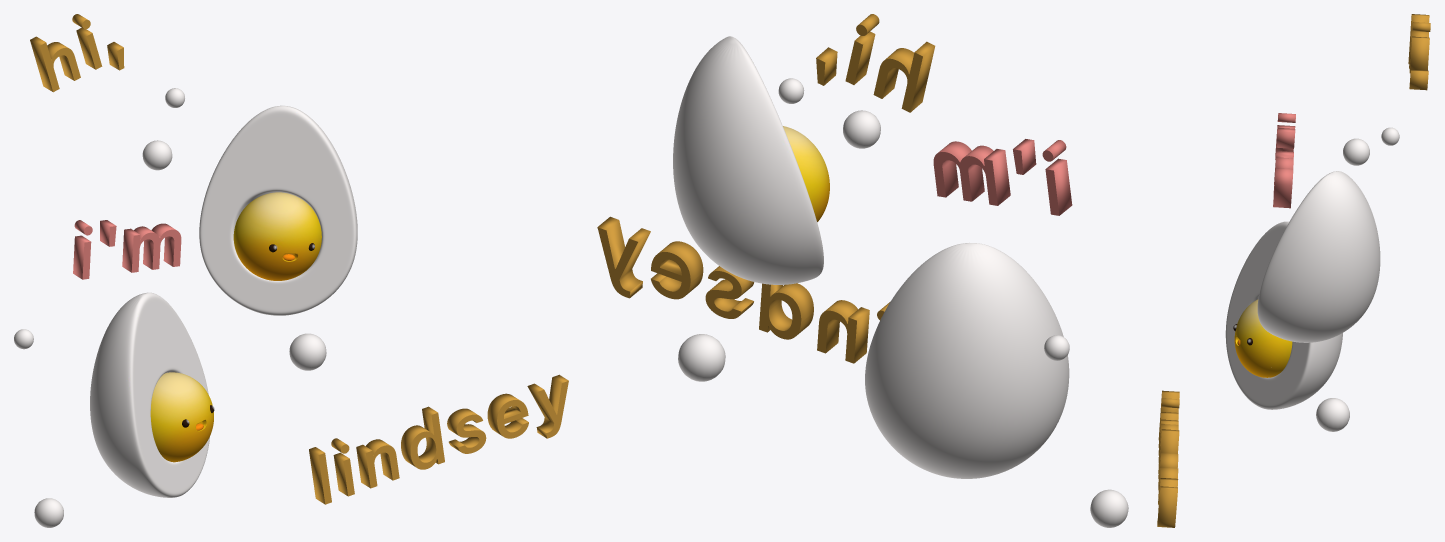
Rendered from home.glb.
The picture shows the model from 3 angles, left to right: view 1: azimuth 30°, elevation 25°; view 2: azimuth 150°, elevation 25°; view 3: azimuth 270°, elevation 25°; orthographic projection. The views are drawn at different scales.
Parts seen in each view (by area): view 1: g, Text.008, Text.003, Text.015, Text, Text.001, Text.004, Text.002, Text.007, Text.010, Text.005; view 2: g, Text.008, Text.003, Text.015, Text, Text.001, Text.004, Text.002, Text.010, Text.013, Text.009, Text.012; view 3: g, Text.008, Text, Text.013, Text.003, Text.009, Text.012, Text.015.
Boxes of the visible parts, bbox=[...] form: g: bbox=[14, 88, 357, 527]; Text.008: bbox=[122, 223, 181, 272]; Text.003: bbox=[401, 406, 444, 469]; Text.015: bbox=[30, 36, 80, 92]; Text: bbox=[527, 374, 568, 438]; Text.001: bbox=[487, 393, 528, 438]; Text.004: bbox=[356, 439, 399, 488]; Text.002: bbox=[447, 408, 486, 453]; Text.007: bbox=[309, 447, 331, 504]; Text.010: bbox=[73, 235, 91, 279]; Text.005: bbox=[333, 452, 354, 496]; g: bbox=[673, 36, 1128, 527]; Text.008: bbox=[933, 141, 1010, 205]; Text.003: bbox=[759, 283, 813, 339]; Text.015: bbox=[873, 41, 935, 112]; Text: bbox=[597, 216, 650, 298]; Text.001: bbox=[651, 241, 703, 299]; Text.004: bbox=[817, 300, 869, 363]; Text.002: bbox=[705, 266, 754, 318]; Text.010: bbox=[1045, 158, 1072, 215]; Text.013: bbox=[845, 31, 875, 84]; Text.009: bbox=[1013, 139, 1036, 174]; Text.012: bbox=[816, 47, 837, 85]; g: bbox=[1225, 127, 1399, 431]; Text.008: bbox=[1273, 151, 1293, 208]; Text: bbox=[1157, 478, 1178, 527]; Text.013: bbox=[1409, 36, 1429, 73]; Text.003: bbox=[1158, 429, 1179, 478]; Text.009: bbox=[1276, 127, 1295, 148]; Text.012: bbox=[1409, 69, 1428, 90]; Text.015: bbox=[1408, 14, 1429, 68].
Bounding box in the file's own units: 2.82 × 2.45 × 1.57.
Materials: 3 (1 with a texture image).
